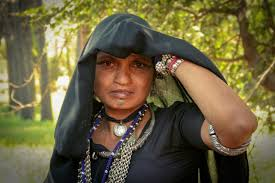indian_female: (78, 1, 176, 115)
